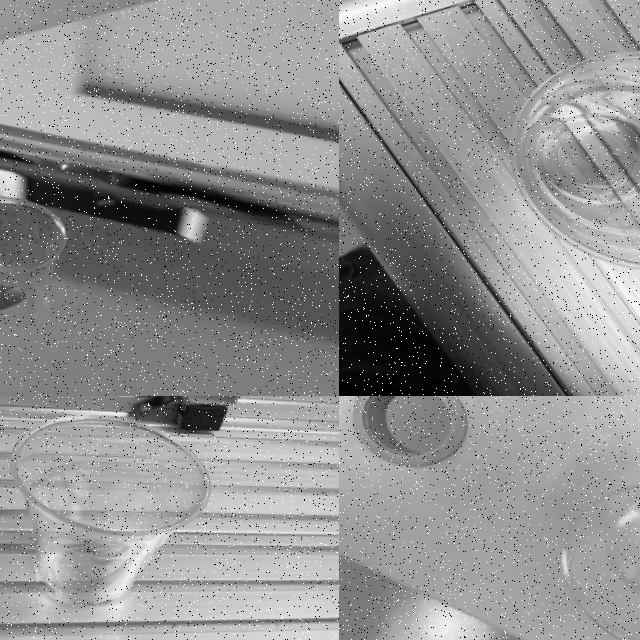glass: (0, 396, 223, 623), (486, 28, 640, 282), (541, 459, 640, 640), (0, 180, 73, 337)
